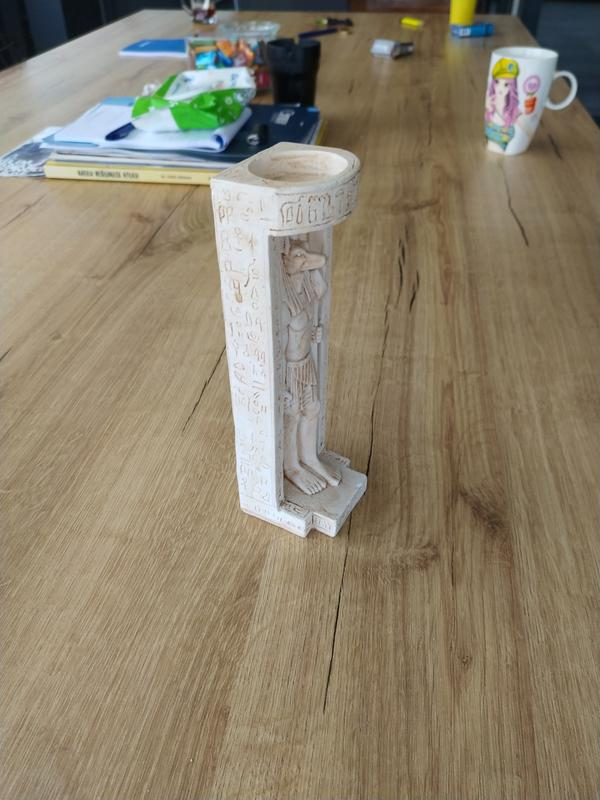heykel: (202, 136, 373, 543)
